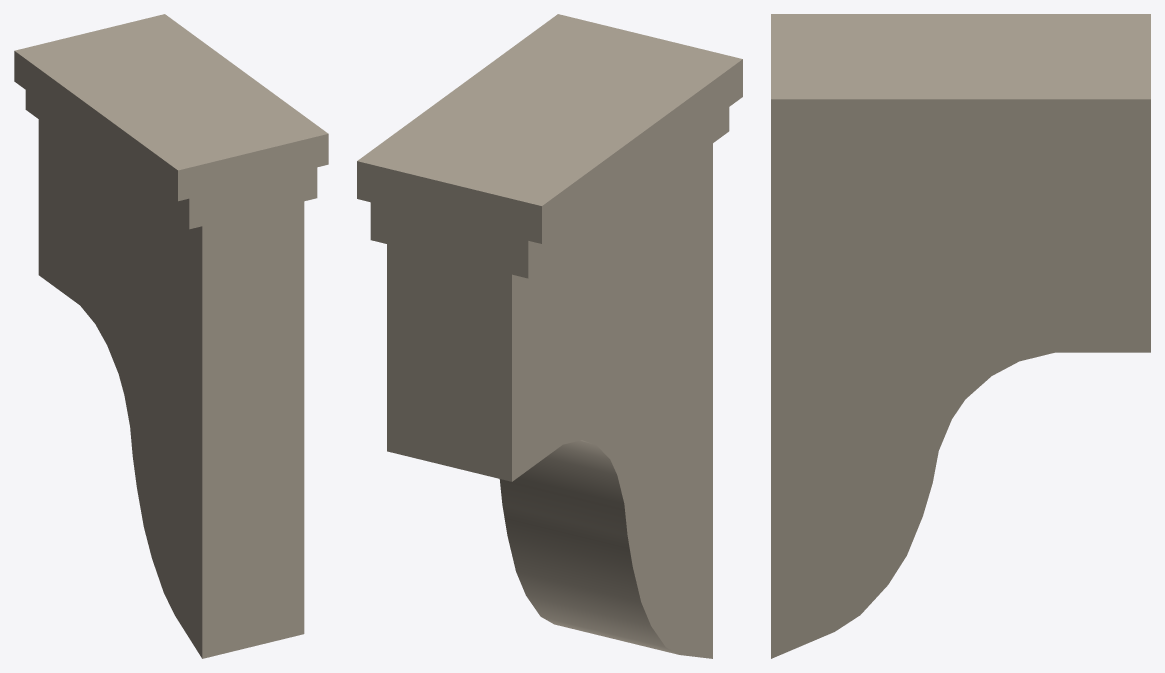
The model's file is Village_Plaster_Detail.fbx.
3 views of the same model, side by side, from view 1: azimuth 30°, elevation 25°; view 2: azimuth 150°, elevation 25°; view 3: azimuth 270°, elevation 25° (orthographic). The views are drawn at different scales.
Parts seen in each view (by area): view 1: Village_Wall_2m_Roof_A.225; view 2: Village_Wall_2m_Roof_A.225; view 3: Village_Wall_2m_Roof_A.225.
Boxes of the visible parts, box(x1,y1,x2,y2) form: Village_Wall_2m_Roof_A.225: box(14, 14, 328, 658); Village_Wall_2m_Roof_A.225: box(357, 14, 742, 658); Village_Wall_2m_Roof_A.225: box(771, 14, 1150, 658).
Bounding box in the file's own units: 31.86 × 100 × 60.
